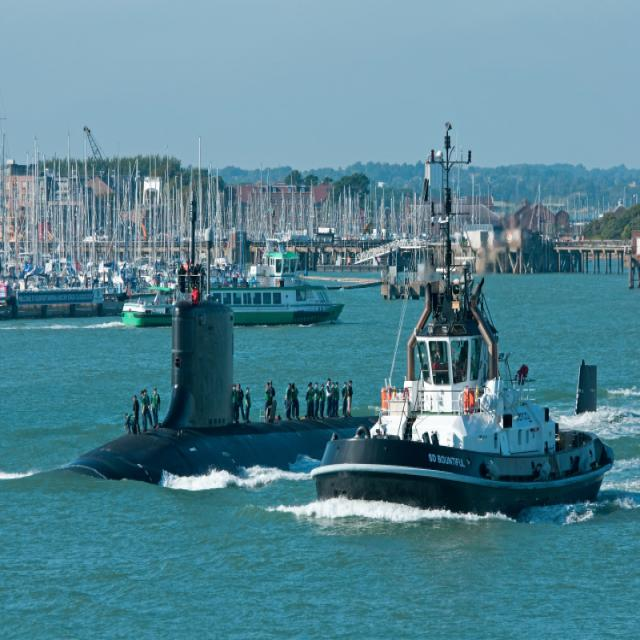submarine: (62, 305, 396, 477)
